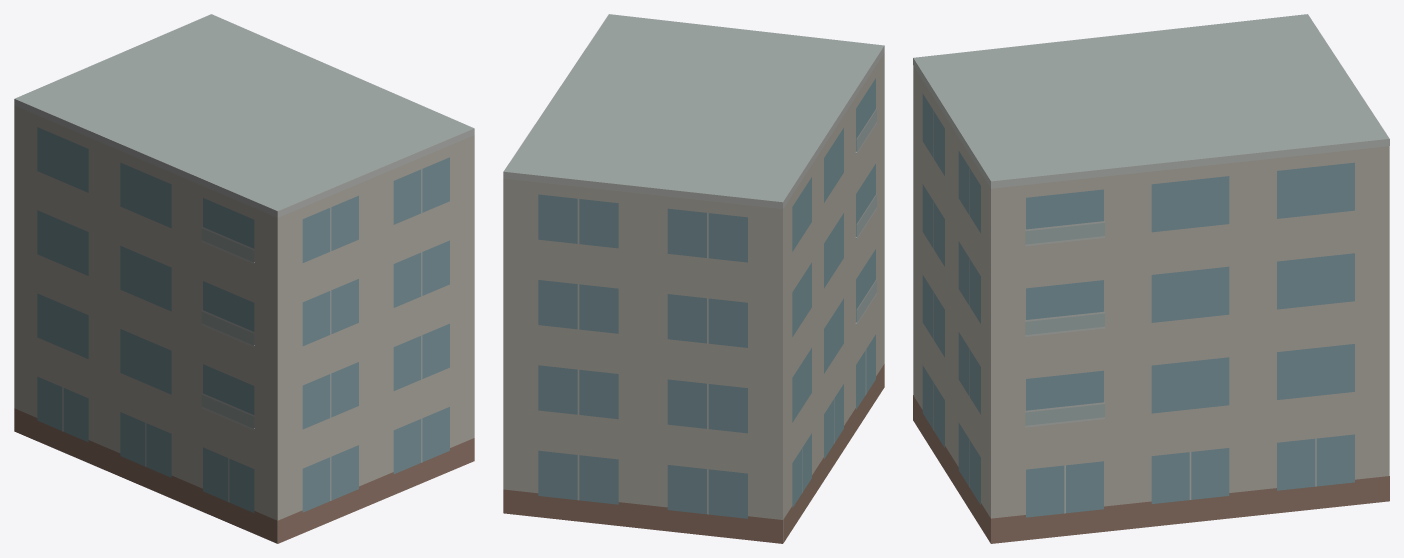
Rendered from survey-upis-32721304.glb.
3 renders of one model, left to right at view 1: azimuth 30°, elevation 25°; view 2: azimuth 150°, elevation 25°; view 3: azimuth 270°, elevation 25°, orthographic. The views are drawn at different scales.
Parts seen in each view (by area): view 1: survey-upis-32721304.tmp; view 2: survey-upis-32721304.tmp; view 3: survey-upis-32721304.tmp.
Part boxes in pixels (box(x1,y1,x2,y2)): survey-upis-32721304.tmp: box(14, 14, 474, 543); survey-upis-32721304.tmp: box(503, 14, 884, 543); survey-upis-32721304.tmp: box(913, 14, 1389, 543).
Size of the model in its own units: 12.1 by 12.2 by 14.55.
